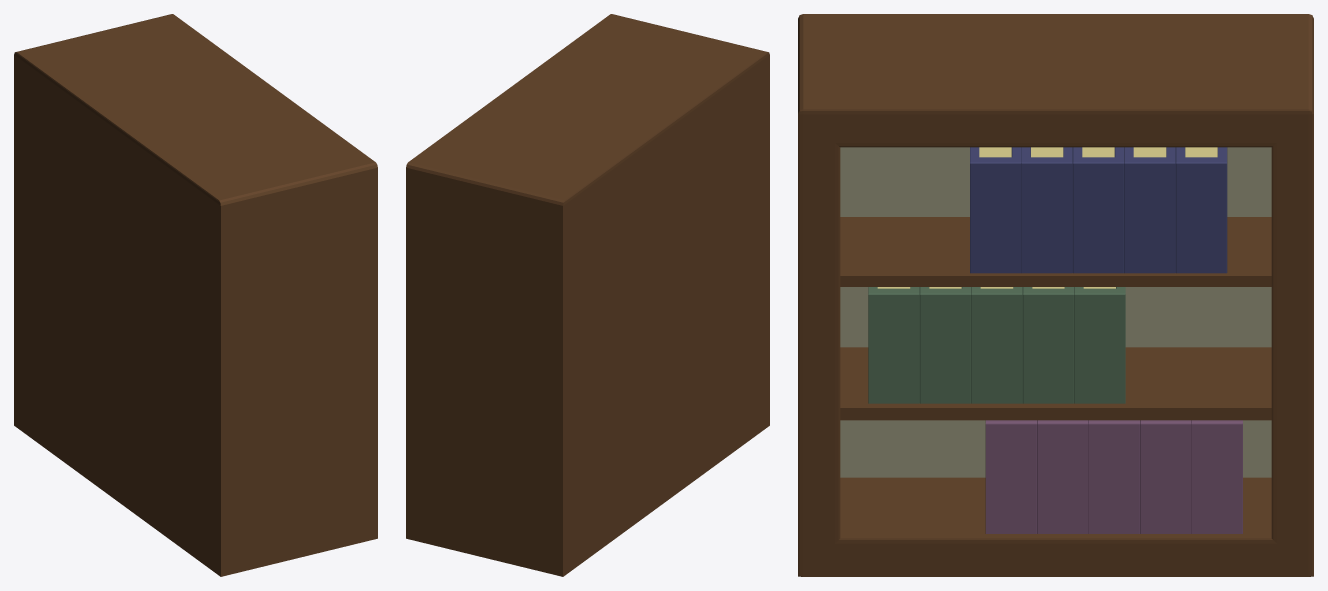
The model's file is bookshelf2.glb.
3 views of the same model, side by side, from view 1: azimuth 30°, elevation 25°; view 2: azimuth 150°, elevation 25°; view 3: azimuth 270°, elevation 25° (orthographic). The views are drawn at different scales.
Visible parts, largest first — view 1: bookshelf2; view 2: bookshelf2; view 3: bookshelf2.
Part boxes in pixels (left/top/right/bottom): bookshelf2: left=14, top=14, right=377, bottom=576; bookshelf2: left=406, top=14, right=769, bottom=576; bookshelf2: left=798, top=14, right=1313, bottom=576.
Bounding box in the file's own units: 0.8804 × 2 × 2.
